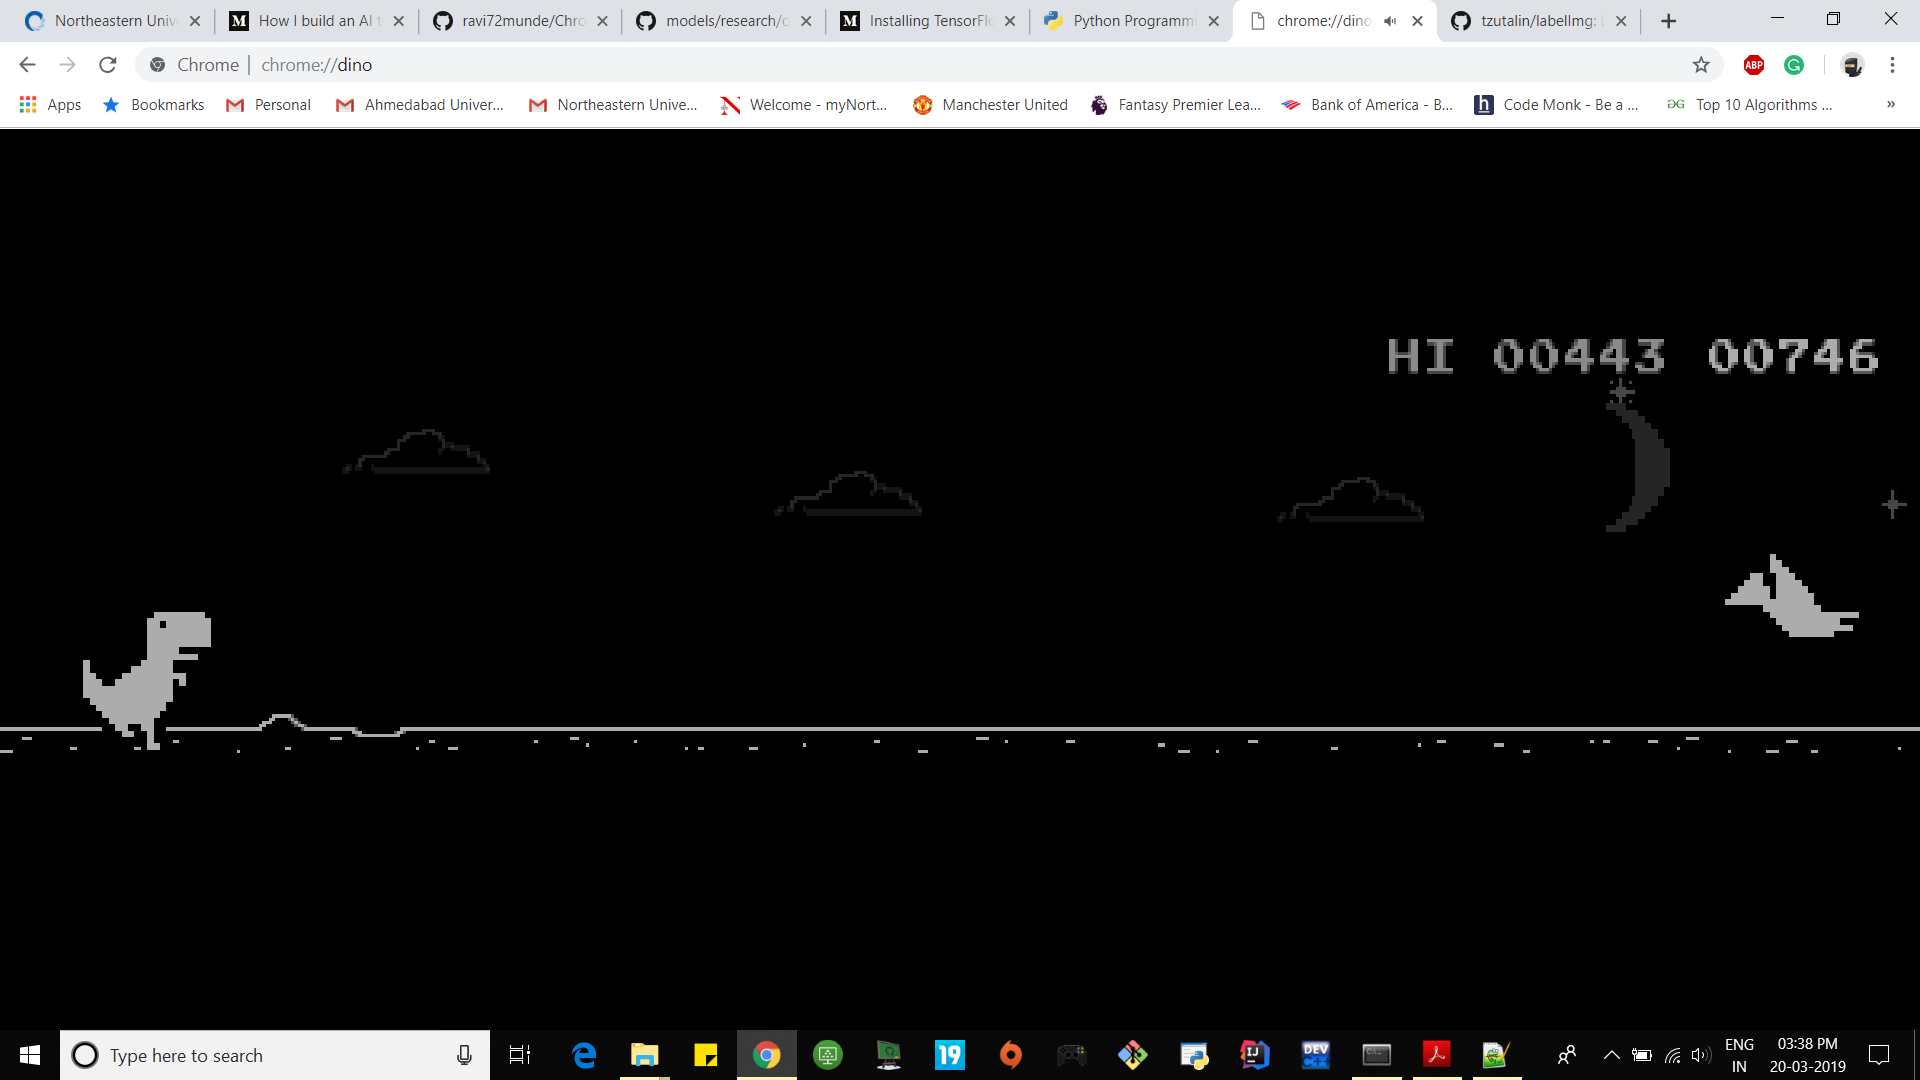bird: (1720, 549, 1859, 649)
dino: (78, 604, 212, 754)
